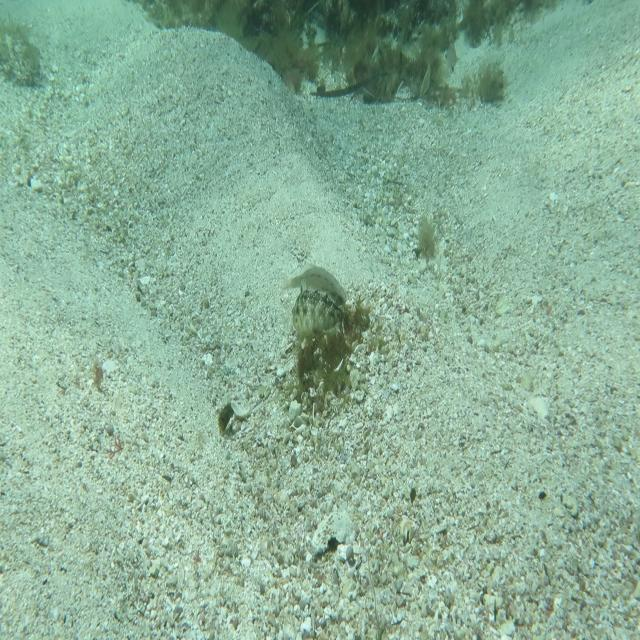DAN_CIRC: (290, 275, 352, 344)
female: (279, 256, 348, 311)
nest: (284, 290, 377, 416)
vegetation: (121, 0, 542, 45), (245, 41, 453, 88), (415, 217, 440, 263), (216, 401, 237, 433)
